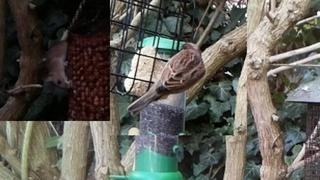mouse: (44, 40, 70, 89)
sparrow: (127, 40, 207, 117)
